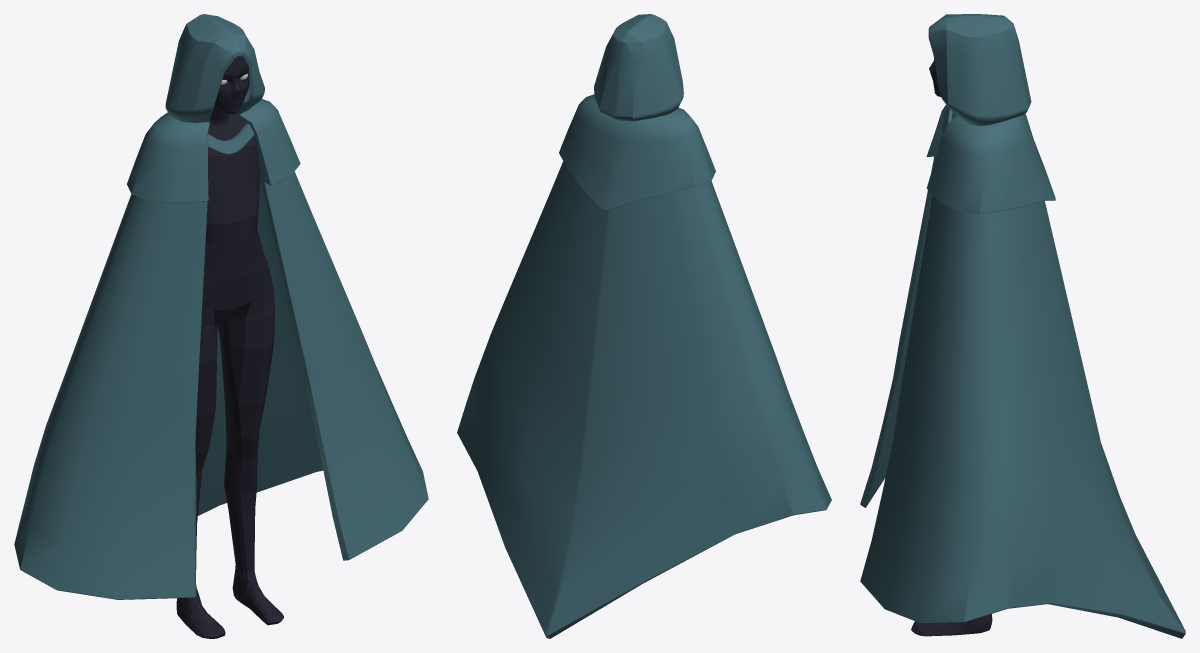
The model's file is SM_GubbKappa.fbx.
3 renders of one model, left to right at view 1: azimuth 30°, elevation 25°; view 2: azimuth 150°, elevation 25°; view 3: azimuth 270°, elevation 25°, orthographic. The views are drawn at different scales.
Visible parts, largest first — view 1: SM_Kappa, SM_Gubbe; view 2: SM_Kappa; view 3: SM_Kappa, SM_Gubbe.
Boxes of the visible parts, <box> form: SM_Kappa: <box>14,14,428,599</box>; SM_Gubbe: <box>176,55,283,638</box>; SM_Kappa: <box>457,14,831,638</box>; SM_Kappa: <box>860,14,1185,638</box>; SM_Gubbe: <box>911,59,992,636</box>.
Size of the model in its own units: 1271 by 1831 by 868.
